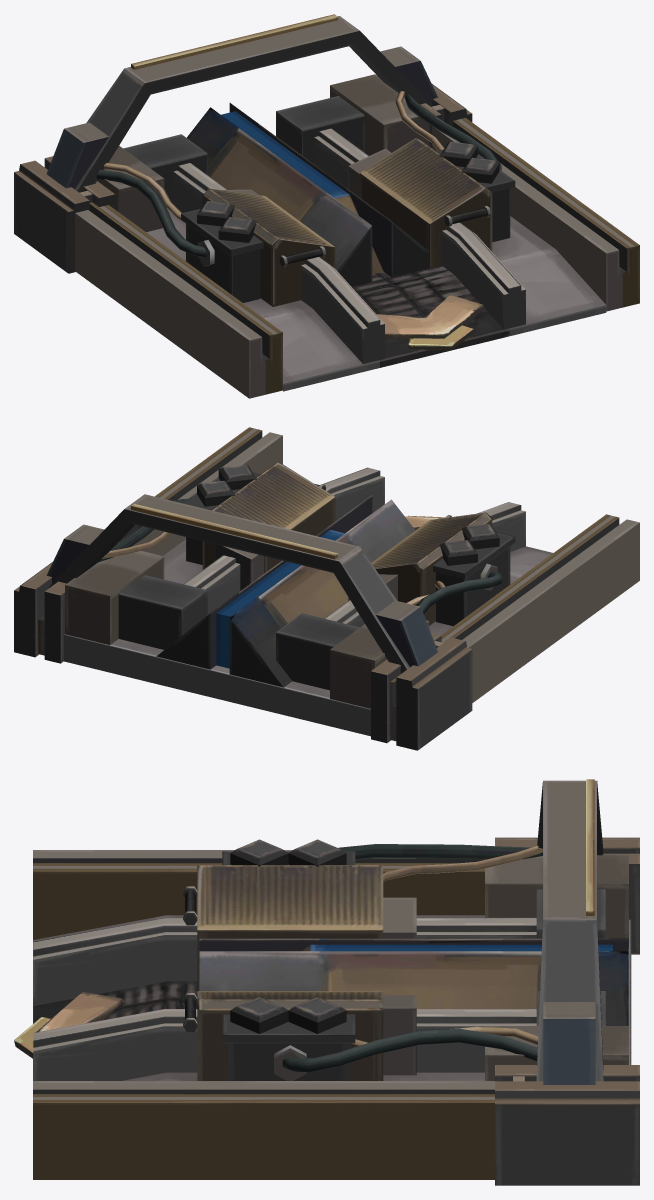
File: trap_450_xbdrill.fbx
3 renders of one model, top to bottom at view 1: azimuth 30°, elevation 25°; view 2: azimuth 150°, elevation 25°; view 3: azimuth 270°, elevation 25°, orthographic. The views are drawn at different scales.
Visible parts, largest first — view 1: trap_450_xbdrill; view 2: trap_450_xbdrill; view 3: trap_450_xbdrill.
Part boxes in pixels (<box>): trap_450_xbdrill: <box>14,14,639,398</box>; trap_450_xbdrill: <box>14,427,639,750</box>; trap_450_xbdrill: <box>14,779,639,1185</box>.
Bounding box in the file's own units: 1.03 × 0.3895 × 1.05.
1 material, 1 textured.
